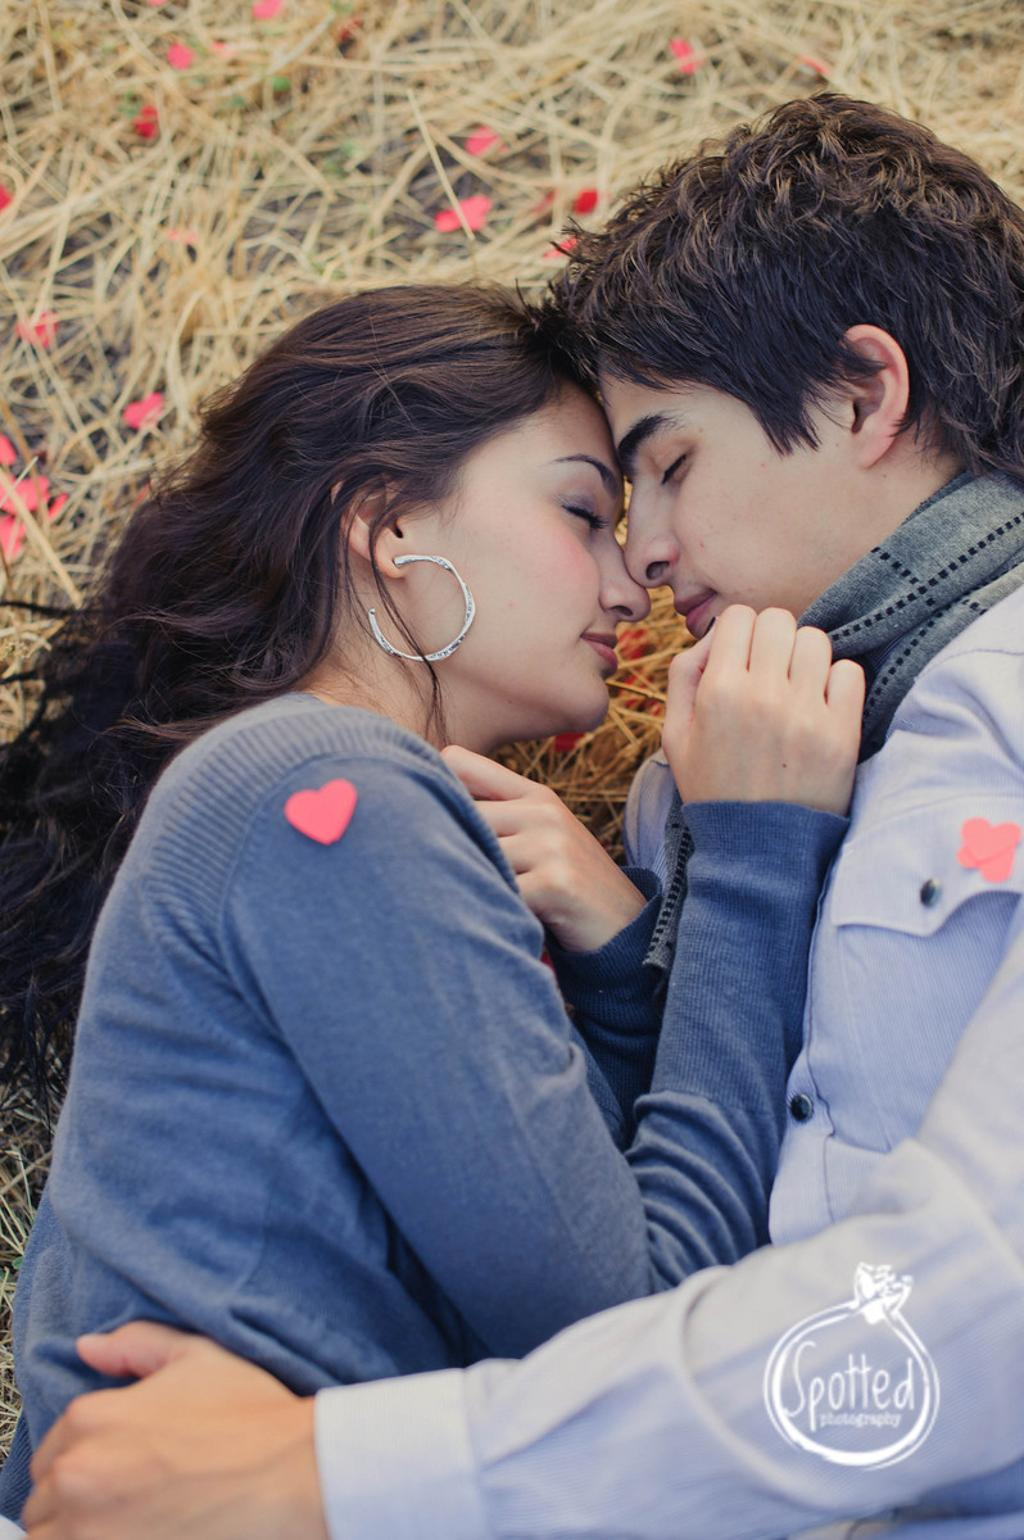face: (599, 328, 849, 689), (446, 376, 651, 722)
